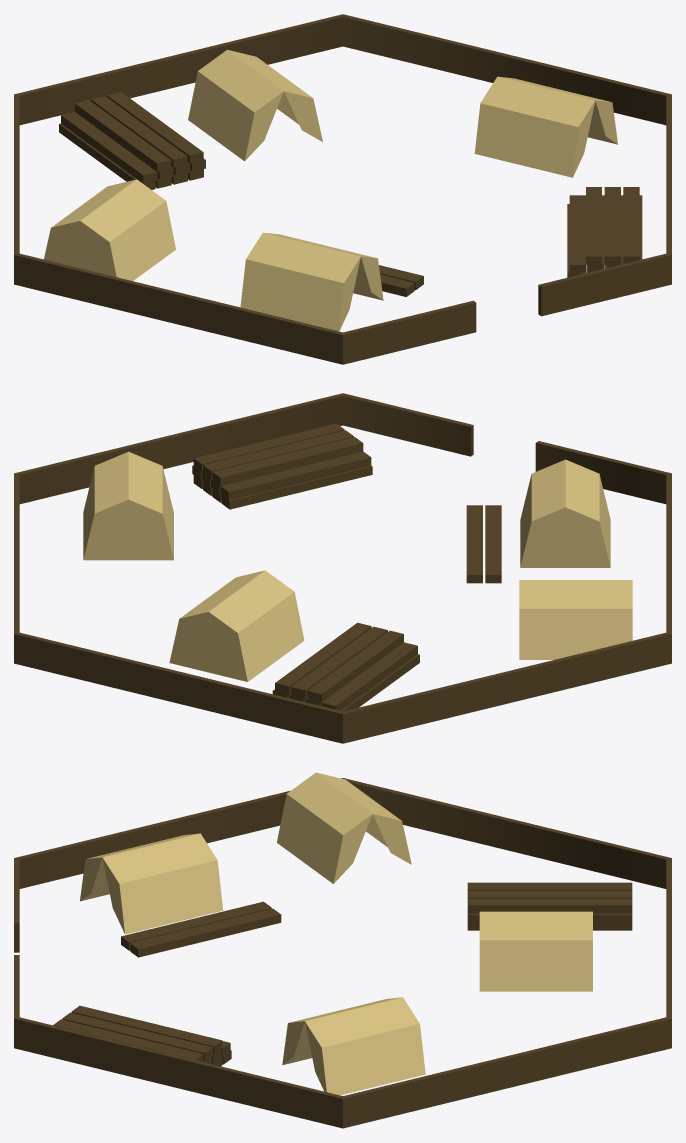
File: MJ_Building_LumberYard.fbx
The picture shows the model from 3 angles, top to bottom: view 1: azimuth 30°, elevation 25°; view 2: azimuth 150°, elevation 25°; view 3: azimuth 270°, elevation 25°; orthographic projection.
Visible parts, largest first — view 1: Model, Group9, Group7, Group1, Group3, Group6, Group2, Group5, Group4, Group10, Group8; view 2: Model, Group3, Group9, Group7, Group1, Group2, Group6, Group4, Group8, Group5, Group11, Group10; view 3: Model, Group7, Group9, Group3, Group1, Group6, Group2, Group8, Group5.
Boxes of the visible parts, x1=… form: Model: x1=14, y1=14, x2=671, y2=364; Group9: x1=474, y1=76, x2=617, y2=177; Group7: x1=240, y1=232, x2=383, y2=331; Group1: x1=44, y1=179, x2=175, y2=280; Group3: x1=188, y1=49, x2=322, y2=161; Group6: x1=75, y1=92, x2=203, y2=171; Group2: x1=586, y1=187, x2=639, y2=264; Group5: x1=61, y1=112, x2=205, y2=183; Group4: x1=569, y1=195, x2=642, y2=273; Group10: x1=59, y1=123, x2=203, y2=189; Group8: x1=379, y1=265, x2=423, y2=296; Model: x1=14, y1=393, x2=671, y2=743; Group3: x1=169, y1=570, x2=304, y2=681; Group9: x1=83, y1=451, x2=173, y2=560; Group7: x1=520, y1=459, x2=610, y2=567; Group1: x1=519, y1=580, x2=632, y2=659; Group2: x1=193, y1=423, x2=363, y2=486; Group6: x1=275, y1=622, x2=403, y2=702; Group4: x1=192, y1=451, x2=371, y2=500; Group8: x1=466, y1=505, x2=501, y2=583; Group5: x1=272, y1=642, x2=417, y2=710; Group11: x1=193, y1=465, x2=372, y2=509; Group10: x1=340, y1=654, x2=419, y2=711; Model: x1=14, y1=778, x2=671, y2=1128; Group7: x1=80, y1=833, x2=223, y2=934; Group9: x1=282, y1=997, x2=425, y2=1095; Group3: x1=479, y1=911, x2=592, y2=991; Group1: x1=277, y1=772, x2=411, y2=883; Group6: x1=467, y1=882, x2=632, y2=913; Group2: x1=53, y1=1005, x2=222, y2=1061; Group8: x1=121, y1=901, x2=281, y2=957; Group5: x1=467, y1=913, x2=632, y2=923.
Size of the model in its own units: 5.82 by 0.5839 by 5.04.
